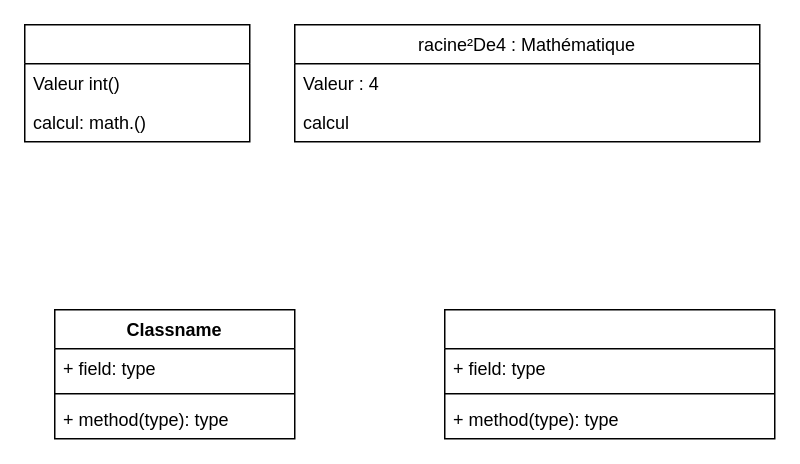
The diagram is 800 pixels wide and 464 high, and some of its shapes have lost their labels. Each missing label, with the box of its shape:
Mathématique: (23, 23, 250, 142)
transactionBoursière : Banque: (443, 308, 775, 439)
